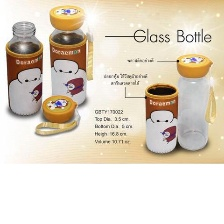bottle: (46, 1, 91, 109), (173, 50, 214, 153), (4, 18, 44, 117)
